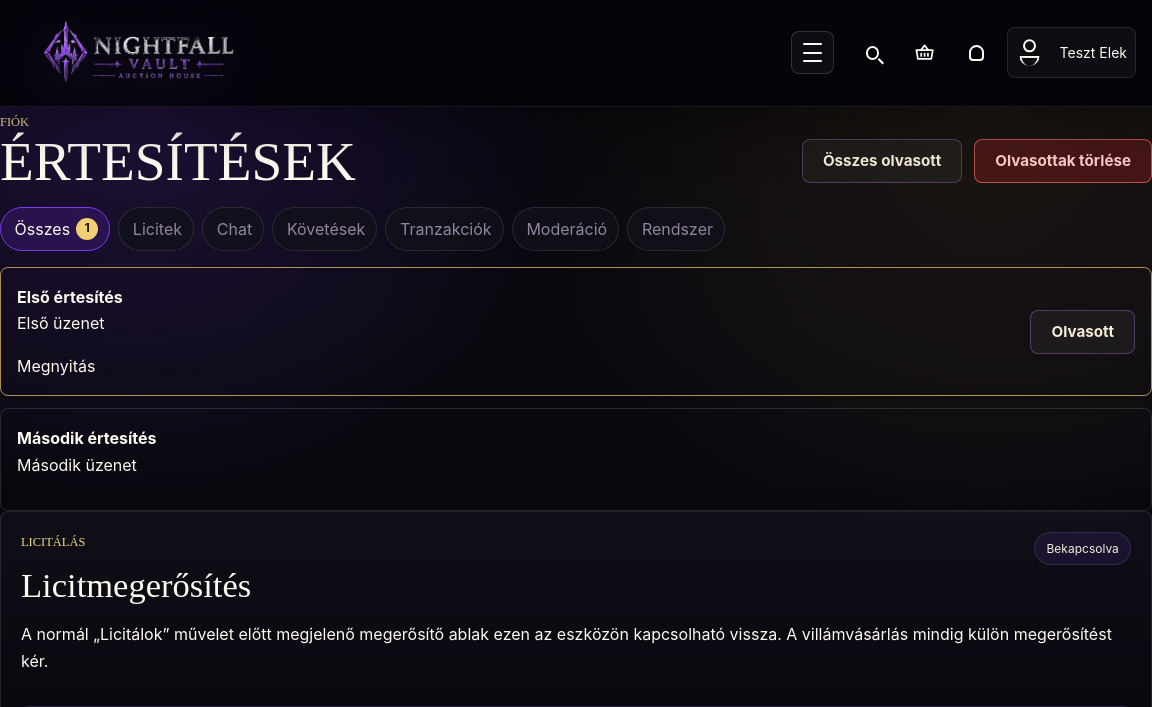
Test case: NotificationsPage › megerősítés után törli a saját olvasott értesítési előzményt
This screenshot has width=1152, height=707.
Expected: the text "Második értesítés" is shown, [17,428,156,448]
Click the button "Olvasottak törlése" at x=1063, y=161, box [974,139,1151,183]
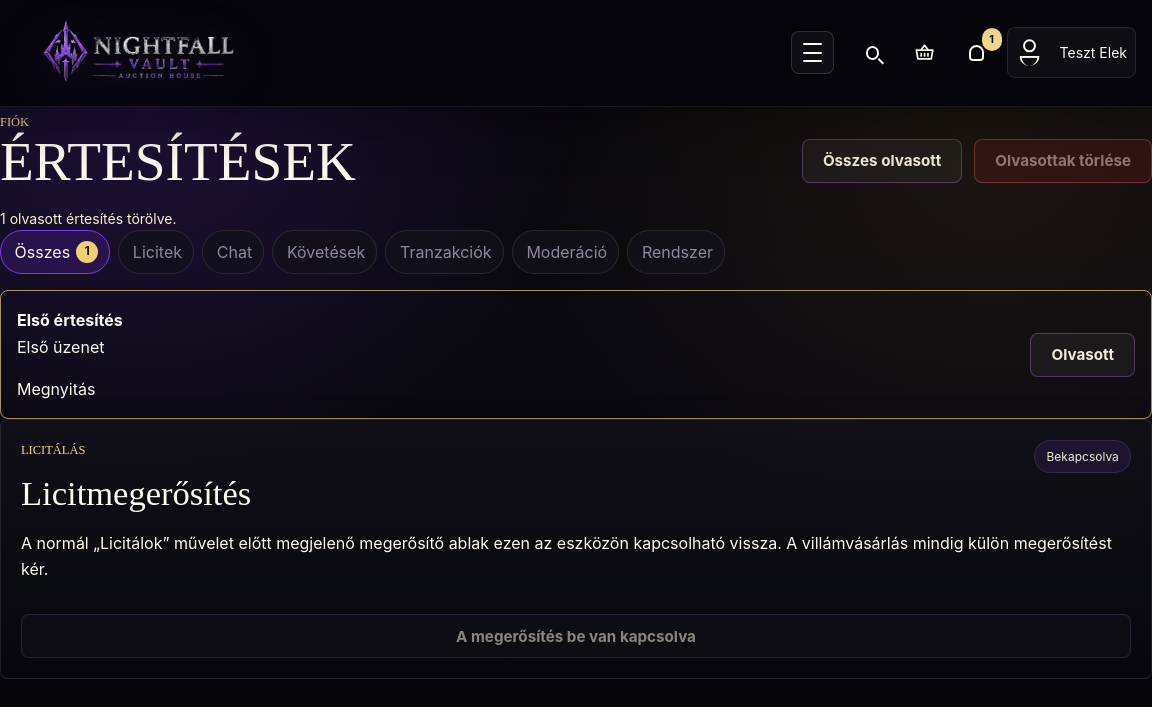
Expected: the text "Első értesítés" is shown, [17,310,123,330]
Now the text "Második értesítés" is gone
Now the text "1 olvasott értesítés törölve." is shown, box [0,210,176,227]
